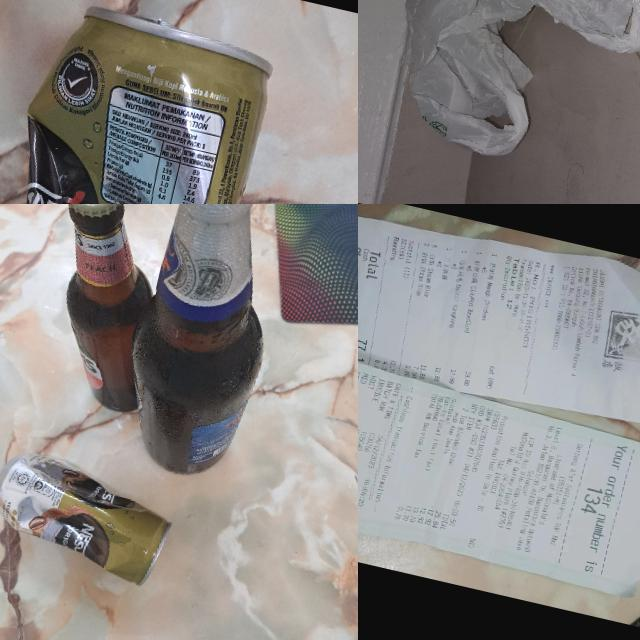garrafa de vidro: (104, 204, 312, 486), (20, 204, 187, 414)
lata: (0, 0, 316, 204), (0, 448, 180, 588)
papel: (358, 204, 640, 600)
sacola plástica: (375, 0, 640, 187)
